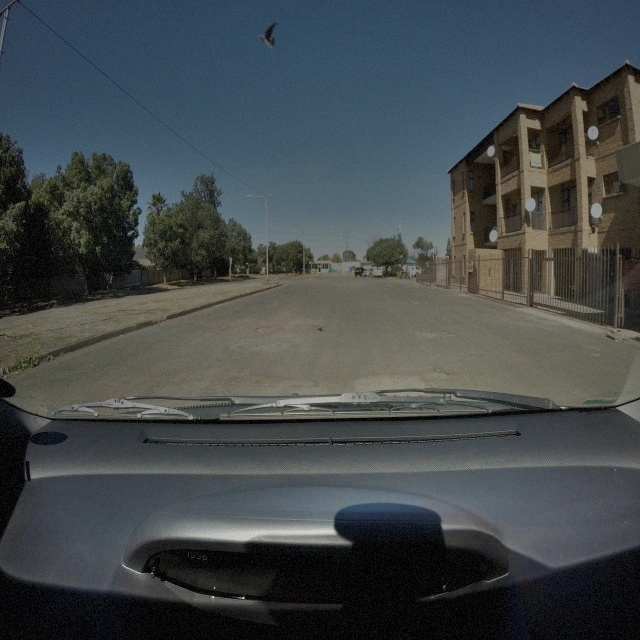pothole: (292, 321, 323, 335), (254, 323, 278, 334)
